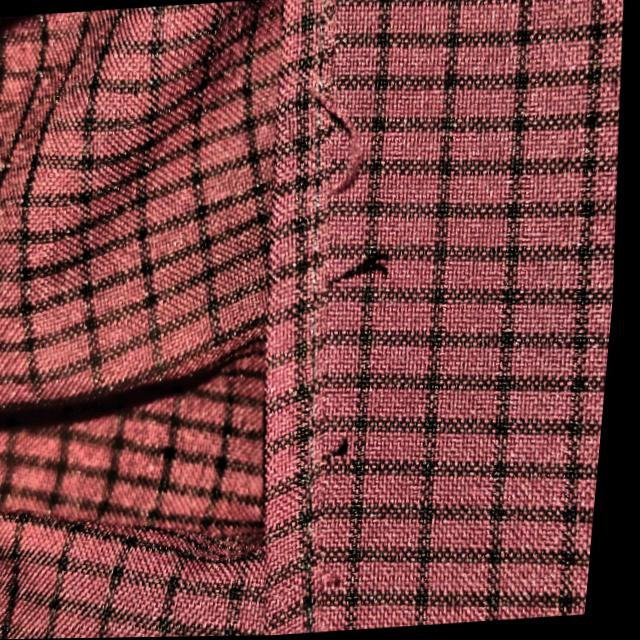Stitch: (286, 46, 401, 201), (319, 225, 445, 320)
